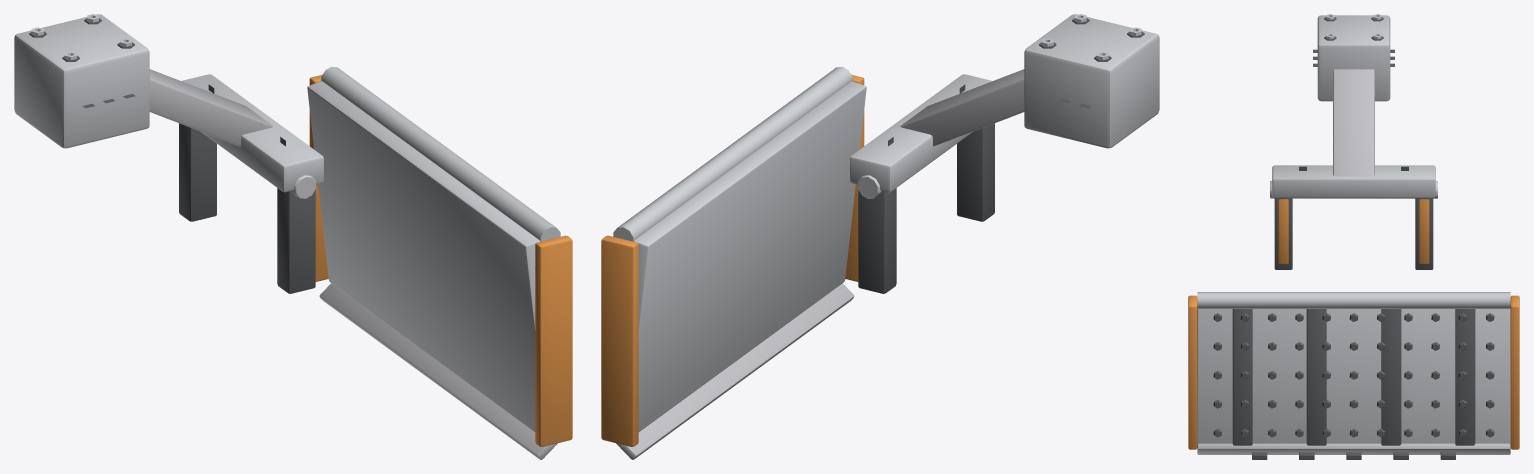
Rendered from anvil.glb.
3 views of the same model, side by side, from view 1: azimuth 30°, elevation 25°; view 2: azimuth 150°, elevation 25°; view 3: azimuth 270°, elevation 25° (orthographic). The views are drawn at different scales.
Parts seen in each view (by area): view 1: body; view 2: body; view 3: body.
Boxes of the visible parts, left/top/right/bottom form: body: left=14, top=14, right=572, bottom=459; body: left=601, top=14, right=1159, bottom=459; body: left=1188, top=14, right=1519, bottom=459.
Bounding box in the file's own units: 0.7646 × 0.747 × 0.73.
